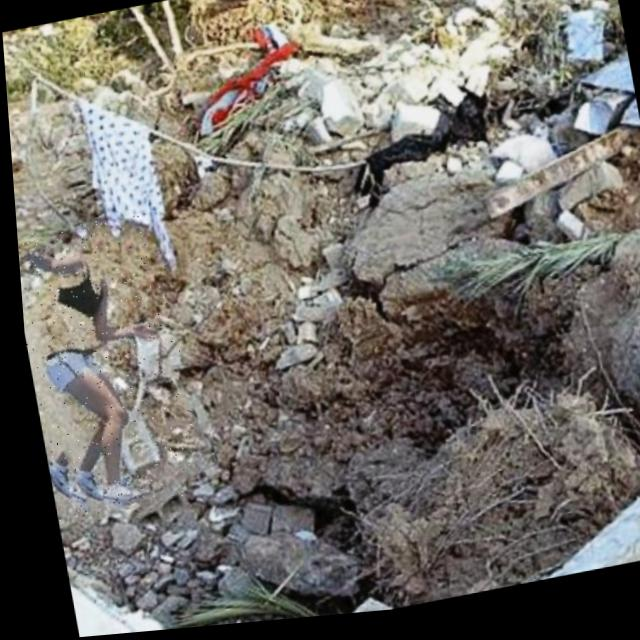Person in Rubble: (13, 209, 197, 522)
